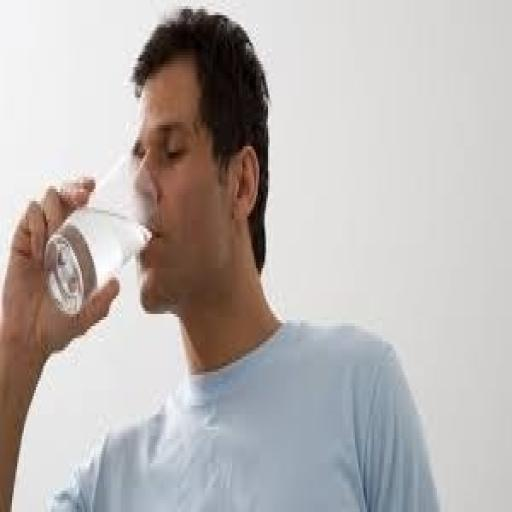drinking: (41, 0, 287, 317)
